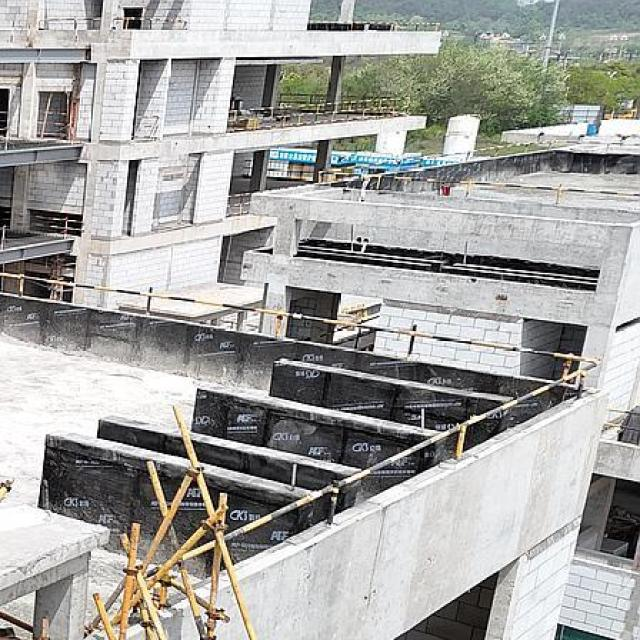Guardrail: (1, 270, 599, 563), (321, 138, 640, 202), (228, 97, 411, 129), (333, 314, 380, 350), (31, 214, 83, 234), (115, 16, 182, 29), (605, 407, 640, 431), (276, 92, 328, 107), (40, 112, 70, 137), (267, 161, 314, 176), (48, 17, 102, 30), (132, 114, 158, 139), (228, 193, 251, 213), (394, 22, 440, 31), (0, 110, 7, 130), (0, 210, 11, 220), (243, 160, 253, 170)
